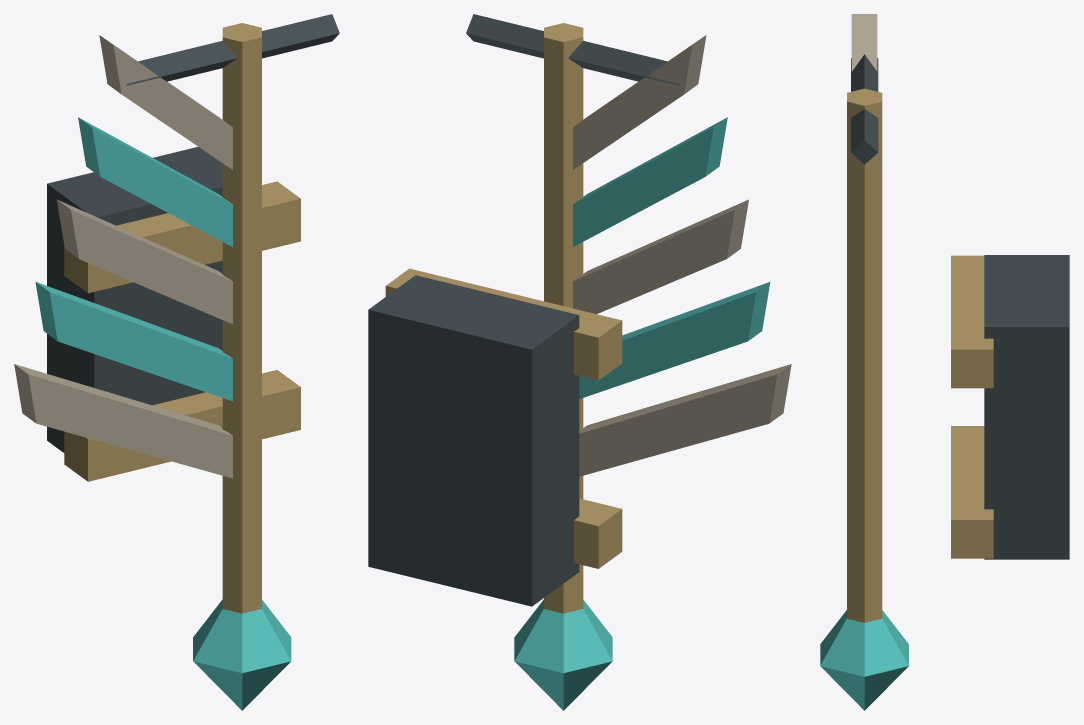
The model's file is Equip_RainVane.fbx.
The picture shows the model from 3 angles, left to right: view 1: azimuth 30°, elevation 25°; view 2: azimuth 150°, elevation 25°; view 3: azimuth 270°, elevation 25°; orthographic projection. The views are drawn at different scales.
Visible parts, largest first — view 1: Equip_RainVane; view 2: Equip_RainVane; view 3: Equip_RainVane.
Part boxes in pixels (left/top/right/bottom): Equip_RainVane: left=14, top=14, right=339, bottom=710; Equip_RainVane: left=368, top=14, right=791, bottom=710; Equip_RainVane: left=820, top=14, right=1069, bottom=710.
Bounding box in the file's own units: 0.2 × 0.411 × 0.146.
